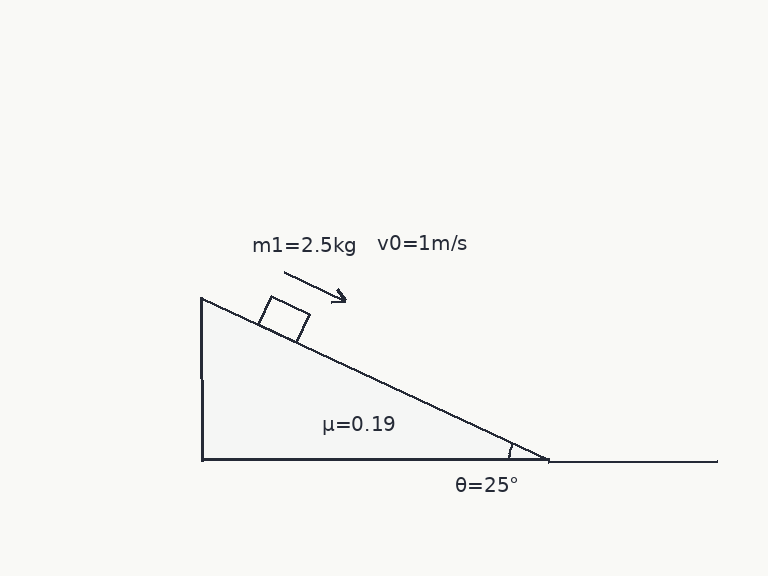block: (256, 295, 311, 344)
ramp: (199, 296, 551, 462)
